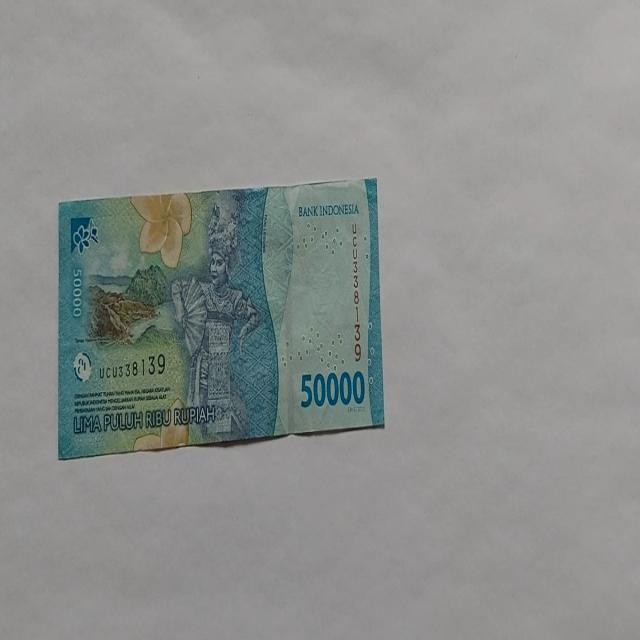lima puluh ribu rupiah: (57, 176, 385, 460), (170, 196, 261, 442)
